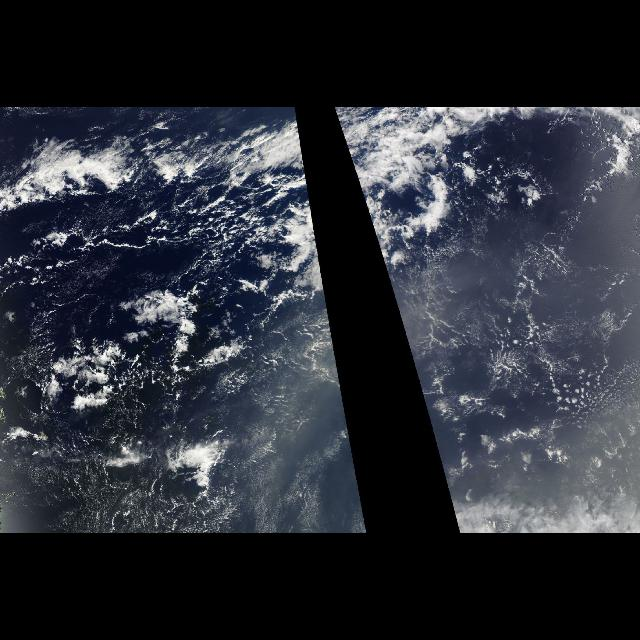Fish: (1, 108, 317, 242), (332, 108, 392, 215)
Gravel: (1, 294, 242, 532), (18, 201, 260, 283)
Sugar: (245, 302, 368, 532), (393, 302, 447, 482)
